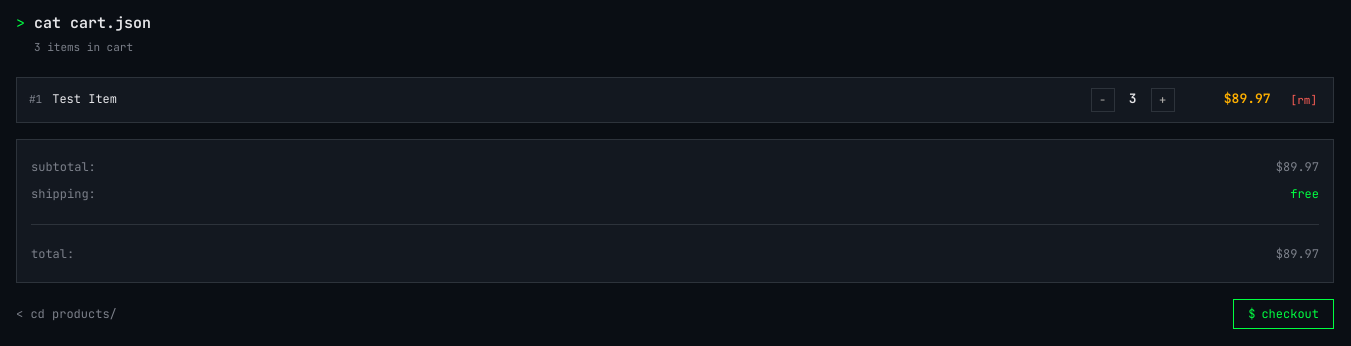
Test case: CartComponent › quantity interactions › should return to original qty after + then - on same item
Click the button "+".
click(1163, 100)  # box [1151,88,1175,112]
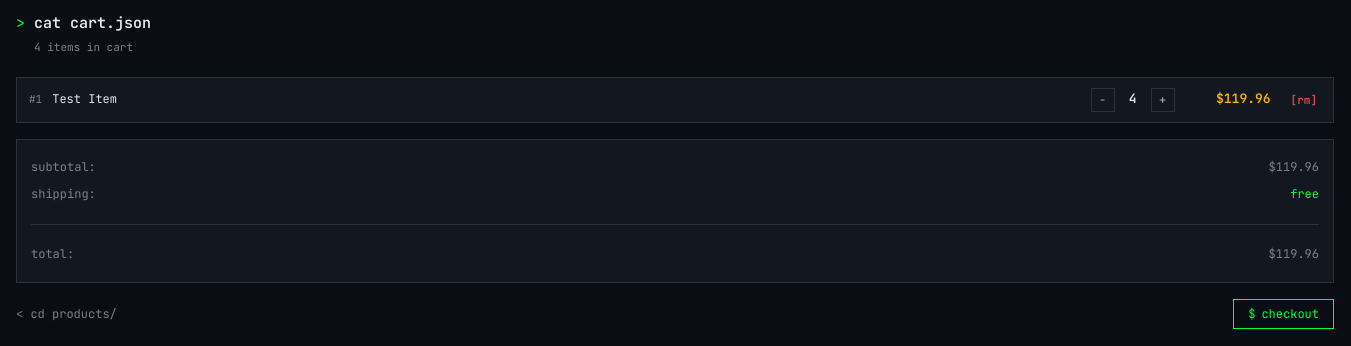
Click the button "-".
click(1103, 100)  # box [1091,88,1115,112]
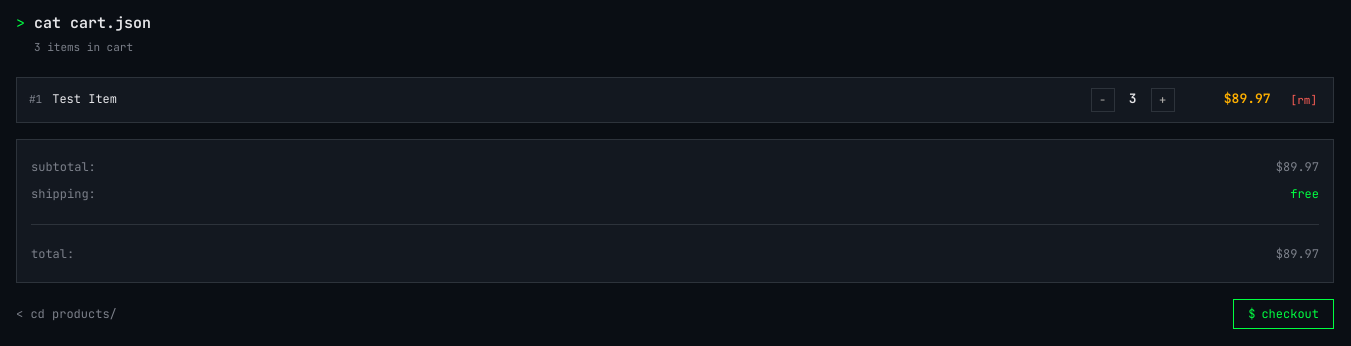
Expected: the text "3" is shown, [1129,90,1136,107]
